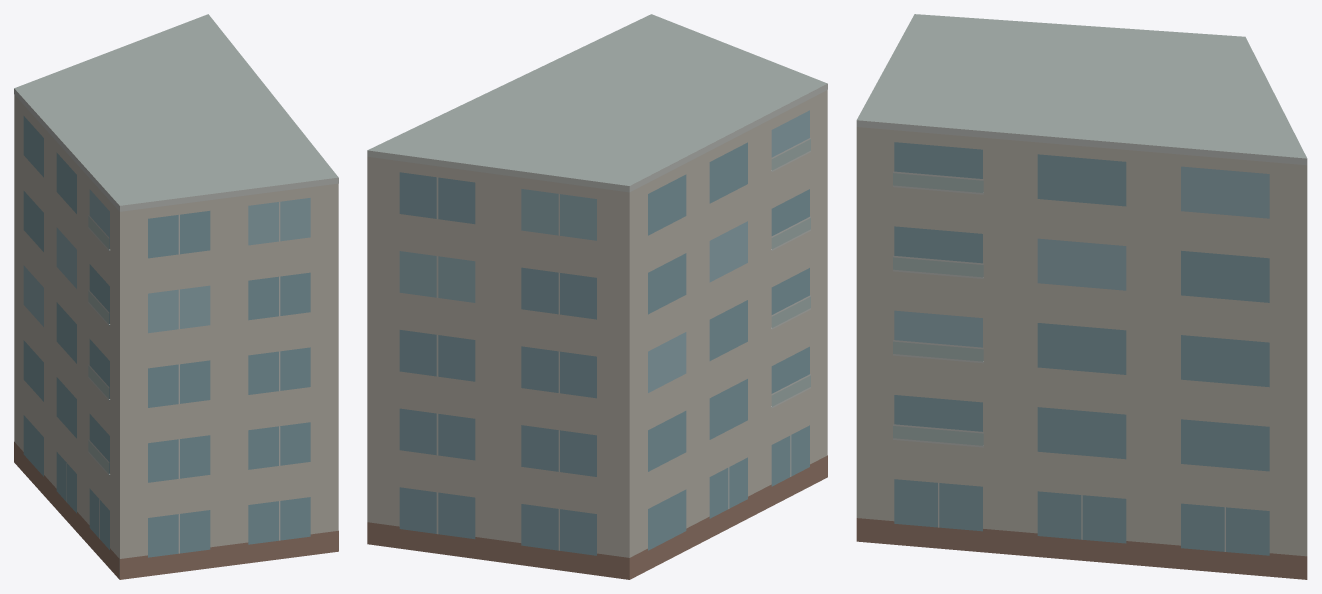
The model's file is survey-upis-32849810.glb.
The picture shows the model from 3 angles, left to right: view 1: azimuth 30°, elevation 25°; view 2: azimuth 150°, elevation 25°; view 3: azimuth 270°, elevation 25°; orthographic projection. The views are drawn at different scales.
Parts seen in each view (by area): view 1: survey-upis-32849810.tmp; view 2: survey-upis-32849810.tmp; view 3: survey-upis-32849810.tmp.
Boxes of the visible parts, bbox=[...] form: survey-upis-32849810.tmp: bbox=[14, 14, 338, 579]; survey-upis-32849810.tmp: bbox=[367, 14, 827, 579]; survey-upis-32849810.tmp: bbox=[856, 14, 1307, 579].
Size of the model in its own units: 11.23 by 15.25 by 14.8.
